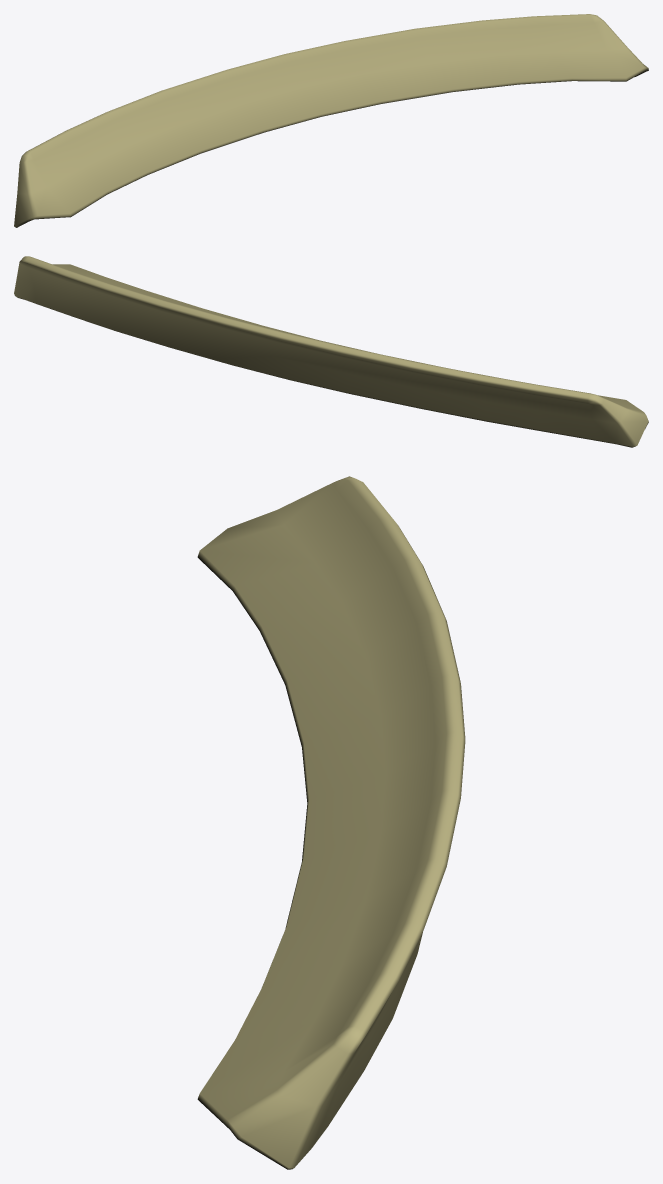
File: Mustang16_Spoiler_02_Duco.fbx
3 views of the same model, one above another, from view 1: azimuth 30°, elevation 25°; view 2: azimuth 150°, elevation 25°; view 3: azimuth 270°, elevation 25° (orthographic). The views are drawn at different scales.
Visible parts, largest first — view 1: Mustang16_Spoiler_02_Duco; view 2: Mustang16_Spoiler_02_Duco; view 3: Mustang16_Spoiler_02_Duco.
Part boxes in pixels (<box>): Mustang16_Spoiler_02_Duco: <box>14,14,648,227</box>; Mustang16_Spoiler_02_Duco: <box>14,256,648,447</box>; Mustang16_Spoiler_02_Duco: <box>197,476,465,1169</box>.
Size of the model in its own units: 149 by 15.69 by 27.67.
